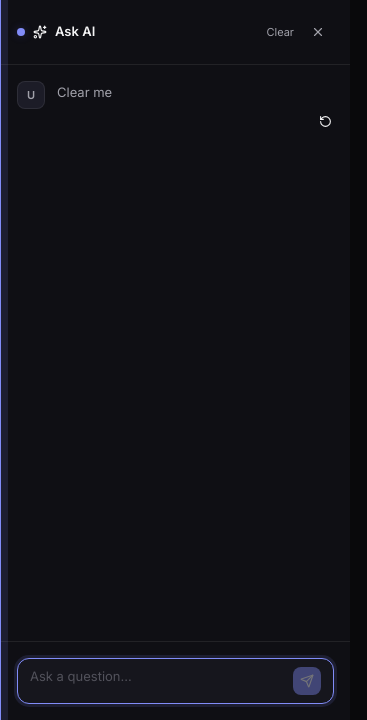
Chat Integration & Comprehensive App Workflows › AI Chat Panel - Tier 1 › 5. clears all message history when clear-conversation button is clicked
Expected: the text "Clear me" is shown, [57, 84, 112, 100]
Click the button with aria-label "Clear conversation": (280, 32) [266, 24, 294, 40]
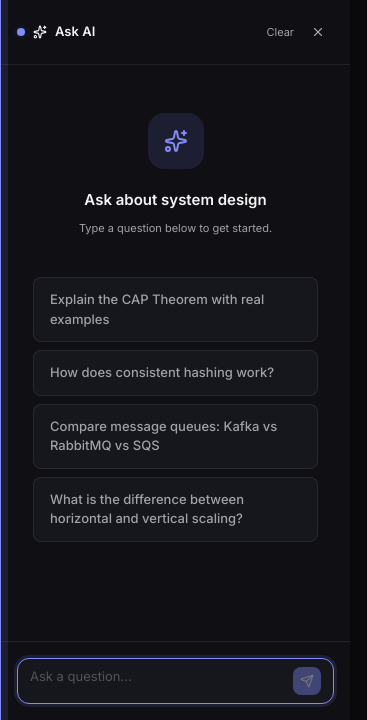
Expected: the text "Clear me" is gone
Expected: the text "Type a question below to get started." is shown, [79, 220, 272, 237]
